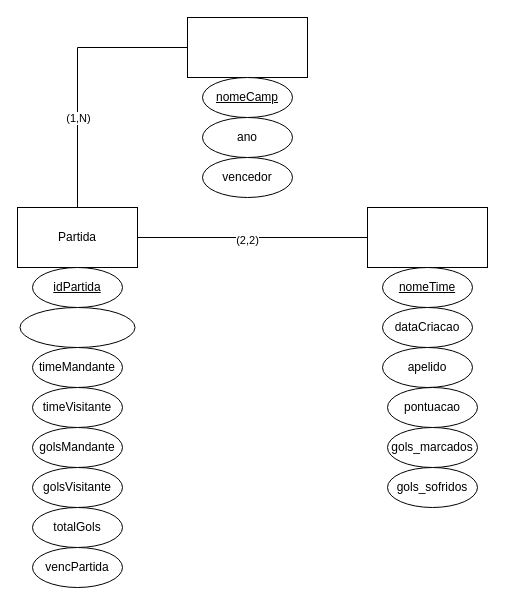
The diagram is 505 pixels wide and 605 high, and some of its shapes have lost their labels. The shapes that lost their labels are listed below. From the top down, each one's centre as x and y in pixels, then its label:
At point 247,47: "Campeonato".
At point 427,237: "Time futebol".
At point 77,327: "nomeCampeonato".
